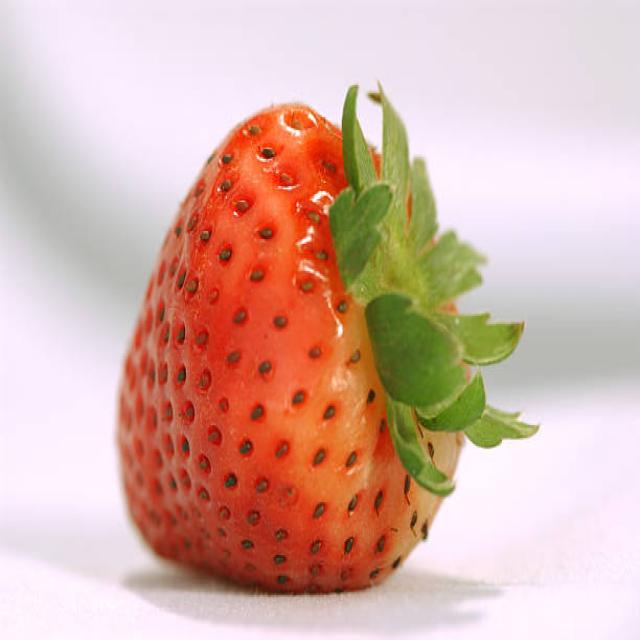Healthy Fruit: (117, 102, 464, 593)
